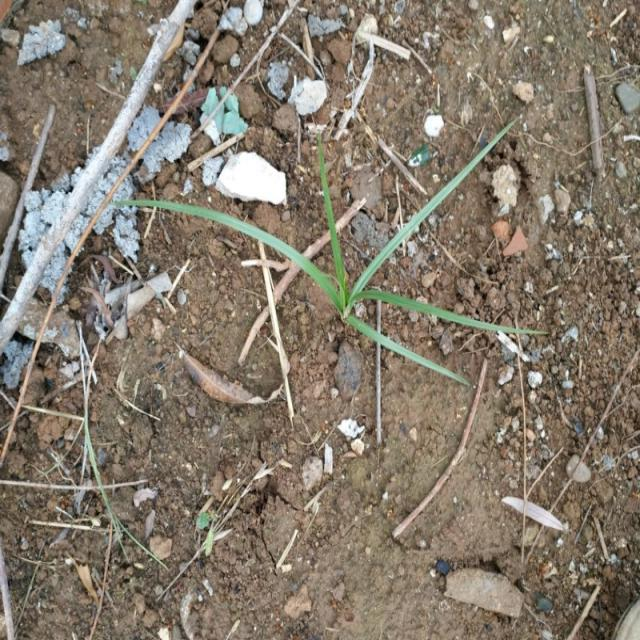sedge: (116, 114, 535, 405)
